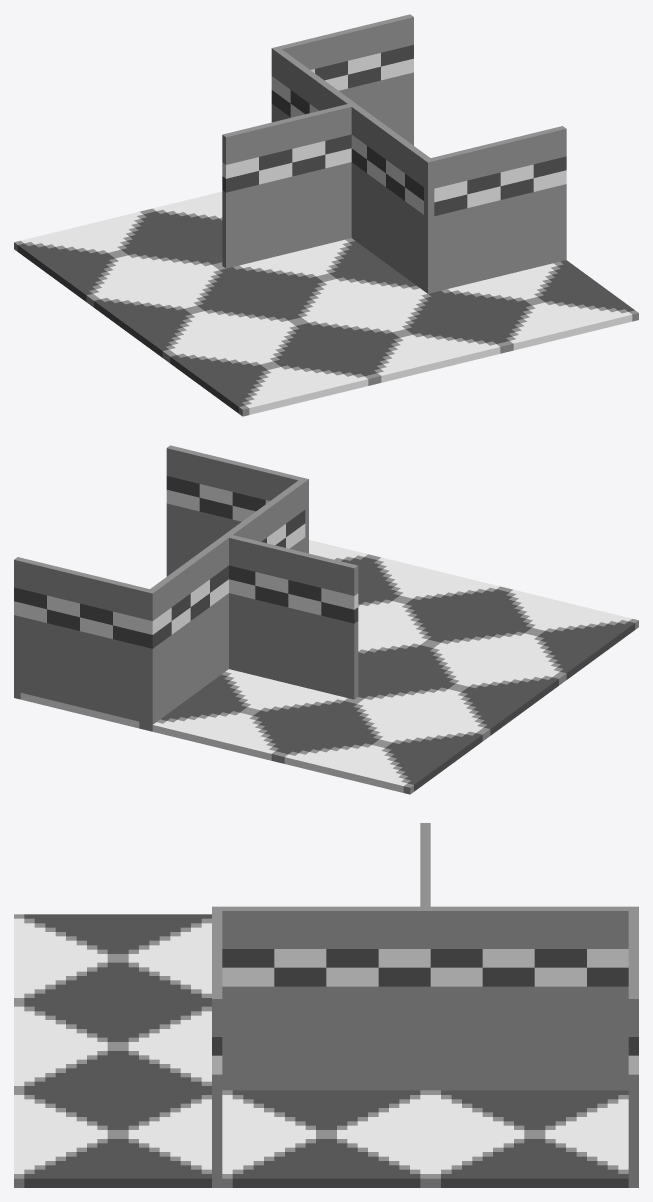
The model's file is level_maze-22.obj.
The picture shows the model from 3 angles, top to bottom: view 1: azimuth 30°, elevation 25°; view 2: azimuth 150°, elevation 25°; view 3: azimuth 270°, elevation 25°; orthographic projection. The views are drawn at different scales.
Visible parts, largest first — view 1: level_maze-22; view 2: level_maze-22; view 3: level_maze-22.
Boxes of the visible parts, bbox=[...] form: level_maze-22: bbox=[14, 14, 638, 416]; level_maze-22: bbox=[14, 445, 638, 794]; level_maze-22: bbox=[14, 823, 638, 1187].
Bounding box in the file's own units: 60 × 20 × 60.
Materials: 1 (1 with a texture image).
